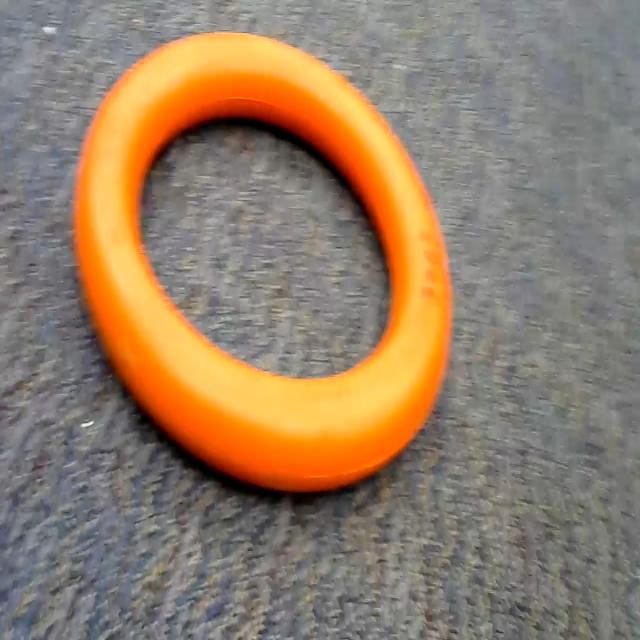note: (68, 0, 474, 521)
